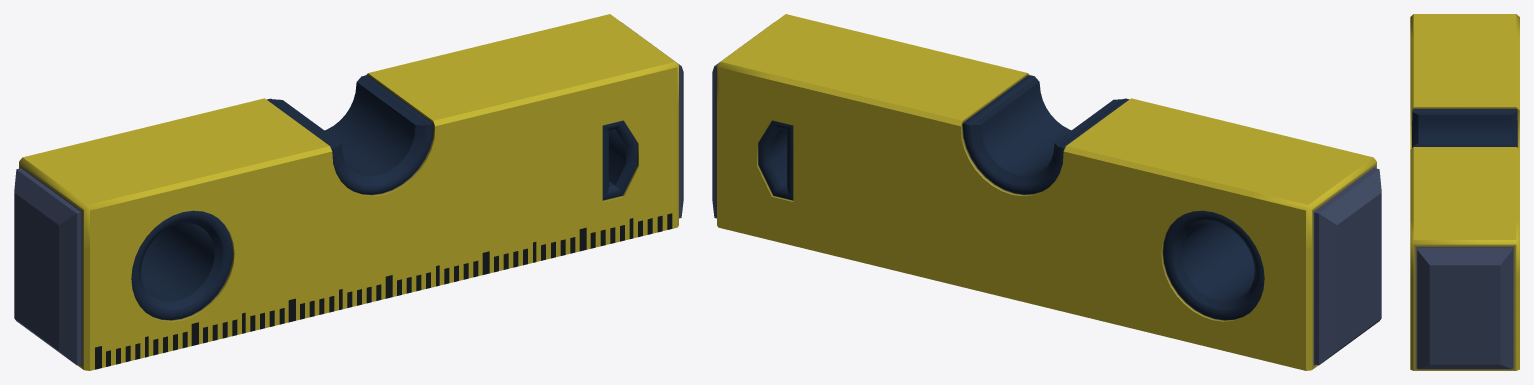
Rendered from Pas.fbx.
3 views of the same model, side by side, from view 1: azimuth 30°, elevation 25°; view 2: azimuth 150°, elevation 25°; view 3: azimuth 270°, elevation 25° (orthographic). The views are drawn at different scales.
Visible parts, largest first — view 1: Pas; view 2: Pas; view 3: Pas.
Boxes of the visible parts, x1,y1,x2,y2 form: Pas: [14, 14, 683, 370]; Pas: [712, 14, 1381, 370]; Pas: [1410, 14, 1519, 370].
Bounding box in the file's own units: 17.12 × 4.3 × 3.3.
